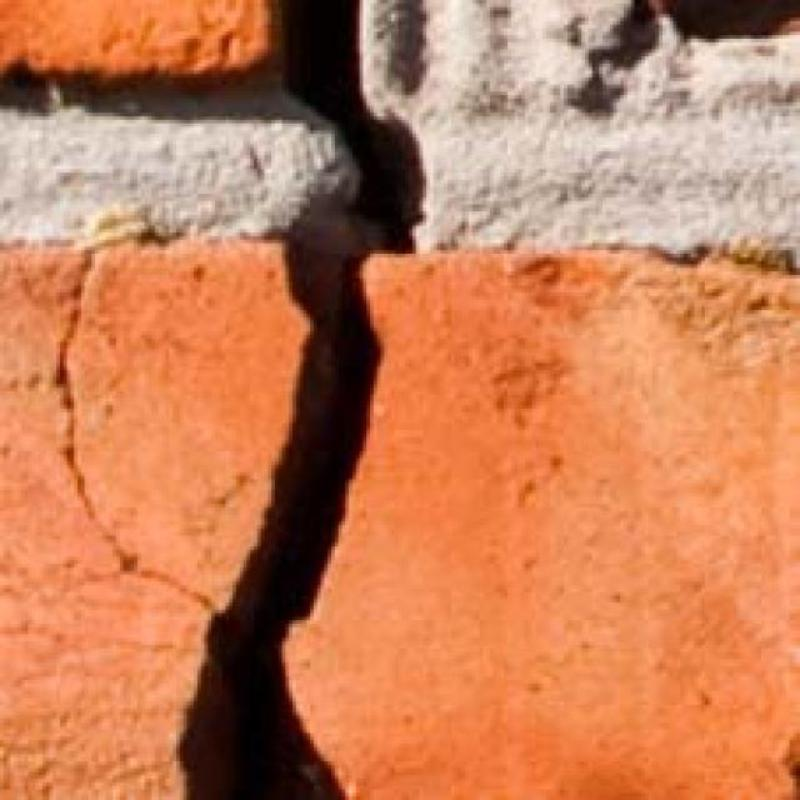pothole: (178, 0, 425, 800), (55, 250, 217, 613)
